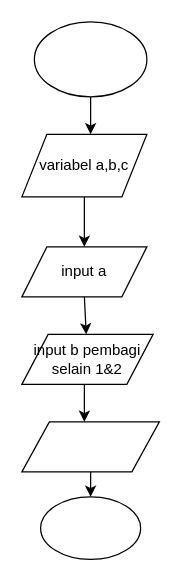
Some shapes in this 181 by 581 pixel diagram are drawn without their labels. Each missing label, with the centre of its shape:
"c=a/b" goes at (x=90, y=446).
"START" goes at (x=90, y=59).
